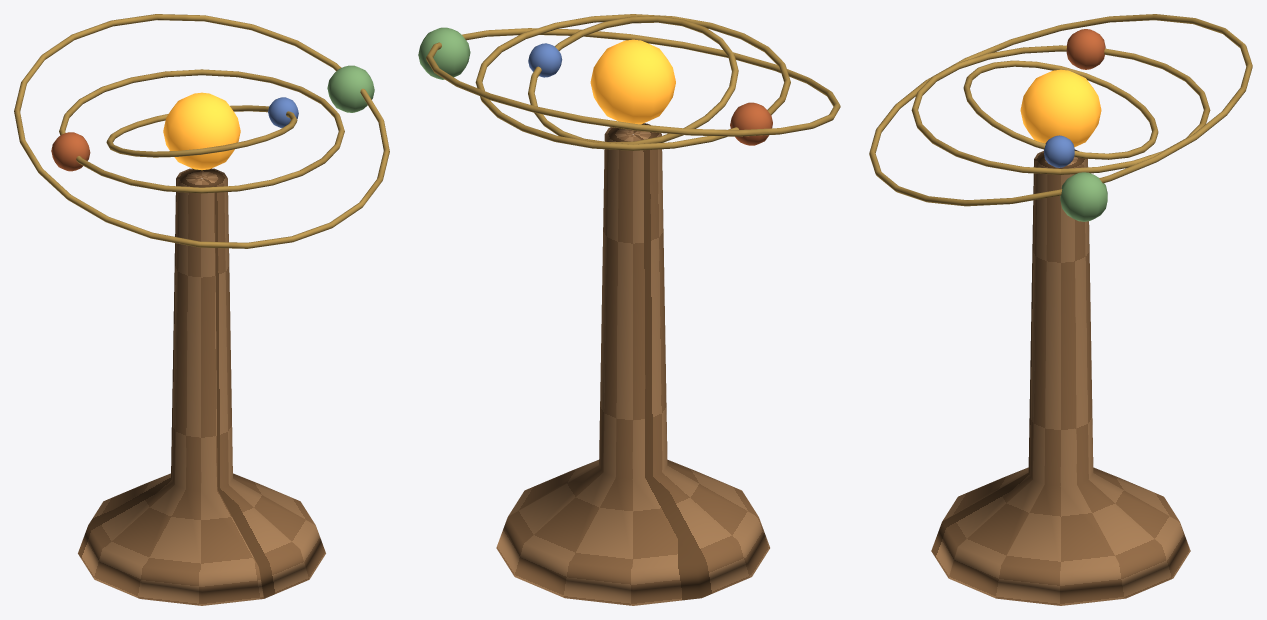
Rendered from orrery.glb.
3 renders of one model, left to right at view 1: azimuth 30°, elevation 25°; view 2: azimuth 150°, elevation 25°; view 3: azimuth 270°, elevation 25°, orthographic. The views are drawn at different scales.
Visible parts, largest first — view 1: dyn_wood_variant, orrery, anim_spin_2, anim_spin_1, anim_spin_0; view 2: dyn_wood_variant, orrery, anim_spin_2, anim_spin_1, anim_spin_0; view 3: dyn_wood_variant, orrery, anim_spin_2, anim_spin_1, anim_spin_0.
Boxes of the visible parts, box(x1,y1,x2,y2) form: dyn_wood_variant: box(78, 168, 325, 605); orrery: box(14, 14, 389, 248); anim_spin_2: box(327, 65, 374, 112); anim_spin_1: box(51, 132, 90, 171); anim_spin_0: box(268, 97, 298, 127); dyn_wood_variant: box(496, 123, 769, 605); orrery: box(426, 14, 840, 150); anim_spin_2: box(418, 27, 470, 79); anim_spin_1: box(730, 102, 772, 145); anim_spin_0: box(528, 43, 562, 77); dyn_wood_variant: box(931, 149, 1190, 605); orrery: box(869, 14, 1252, 206); anim_spin_2: box(1060, 172, 1107, 221); anim_spin_1: box(1066, 29, 1105, 69); anim_spin_0: box(1044, 135, 1074, 167).
Size of the model in its own units: 0.7697 by 0.995 by 0.7096.
6 materials, 2 textured.
